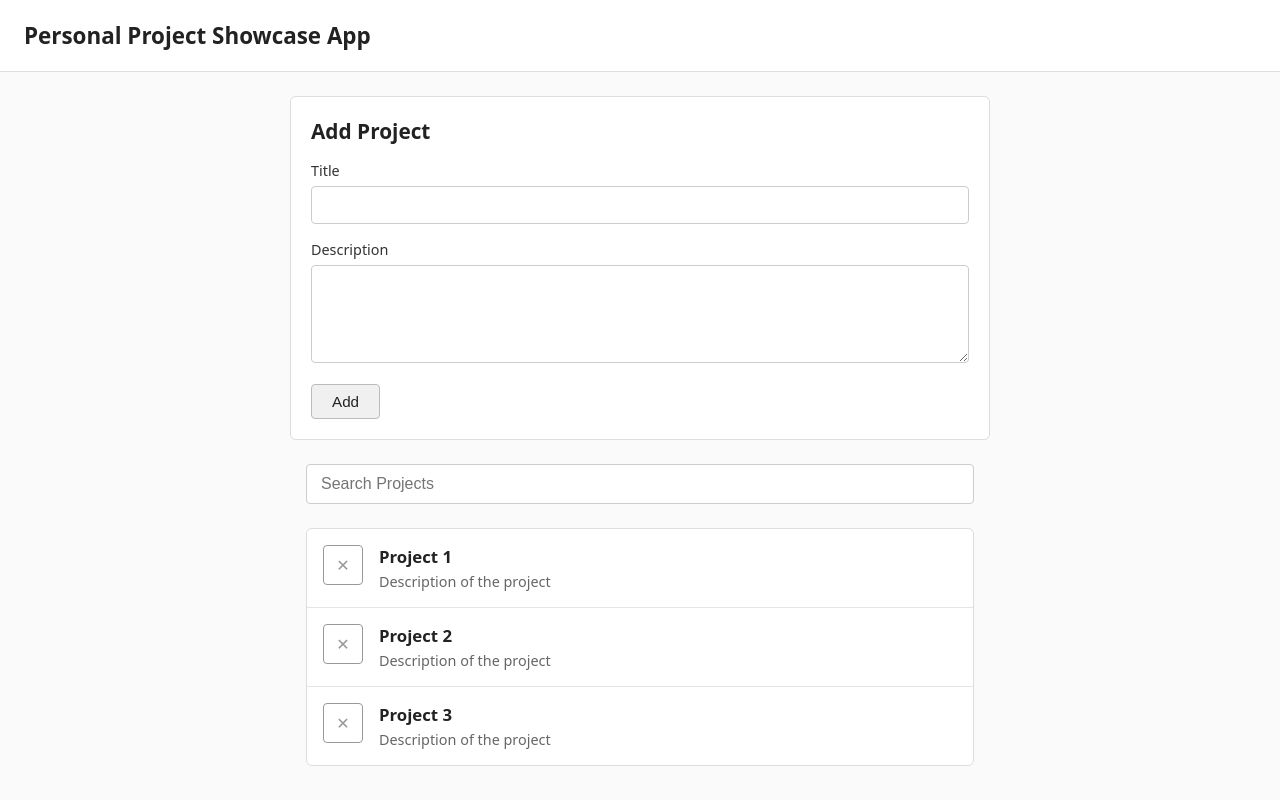
Test: shows a message when no projects match the search
In the field with placeholder "Search Projects": (640, 484) top-left (306, 464), bottom-right (974, 504), type "nothing matches this"
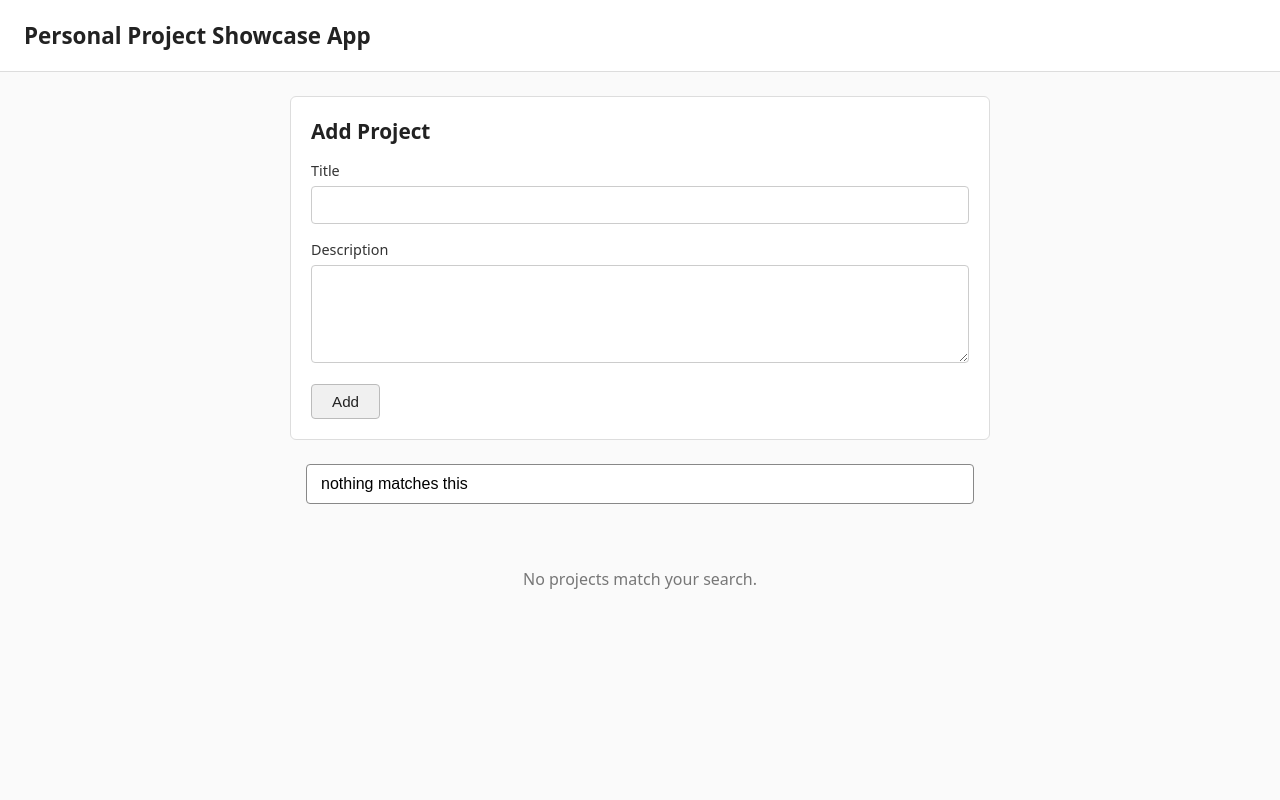
Now the text "No projects match your search." is shown, box top-left (523, 568), bottom-right (757, 590)
